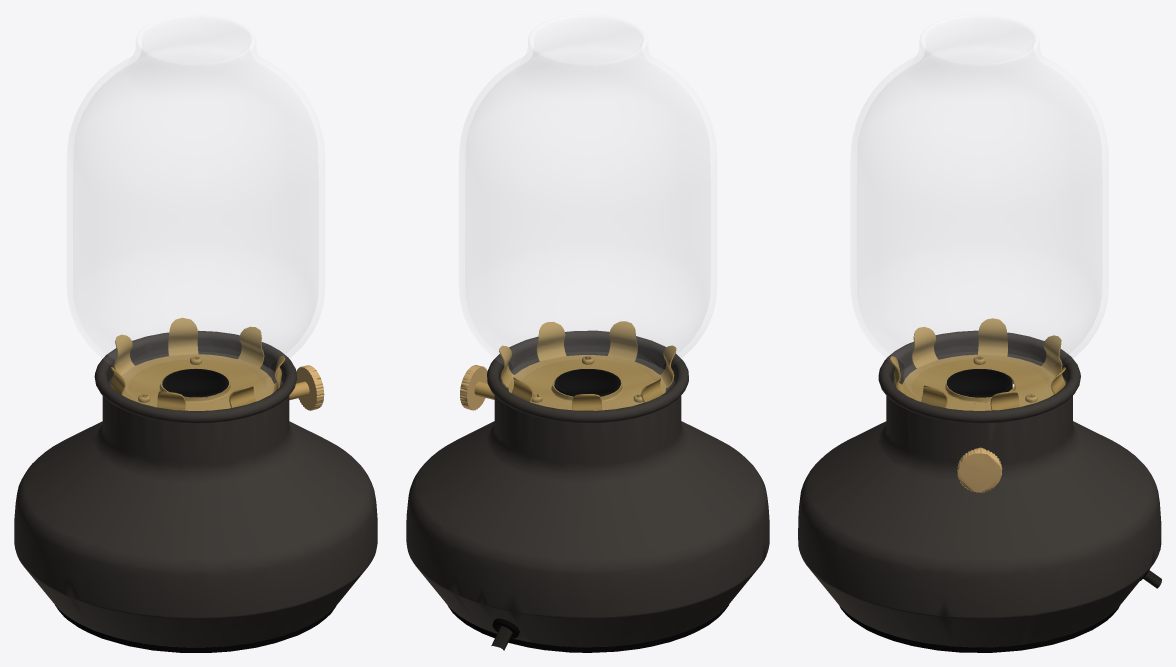
The model's file is 20 - TÄRNABY Table lamp - dimmable beige 25 cm.glb.
3 views of the same model, side by side, from view 1: azimuth 30°, elevation 25°; view 2: azimuth 150°, elevation 25°; view 3: azimuth 270°, elevation 25° (orthographic).
Visible parts, largest first — view 1: Mesh_0, Mesh_1; view 2: Mesh_0, Mesh_1; view 3: Mesh_0, Mesh_1.
Boxes of the visible parts, x1,y1,x2,y2 form: Mesh_0: [14, 317, 377, 652]; Mesh_1: [73, 44, 318, 400]; Mesh_0: [406, 321, 769, 652]; Mesh_1: [465, 34, 710, 400]; Mesh_0: [798, 318, 1161, 652]; Mesh_1: [857, 44, 1102, 400].
Bounding box in the file's own units: 0.1459 × 0.2455 × 0.1461.
Materials: 2 (1 with a texture image).
